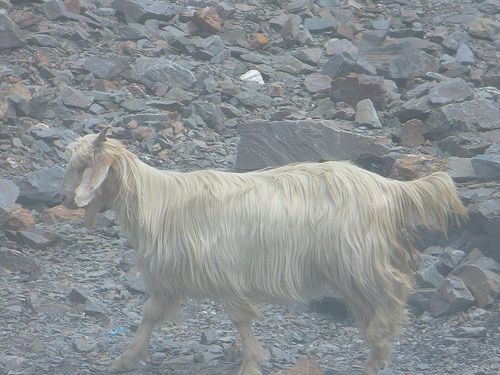goat: (59, 126, 471, 375)
